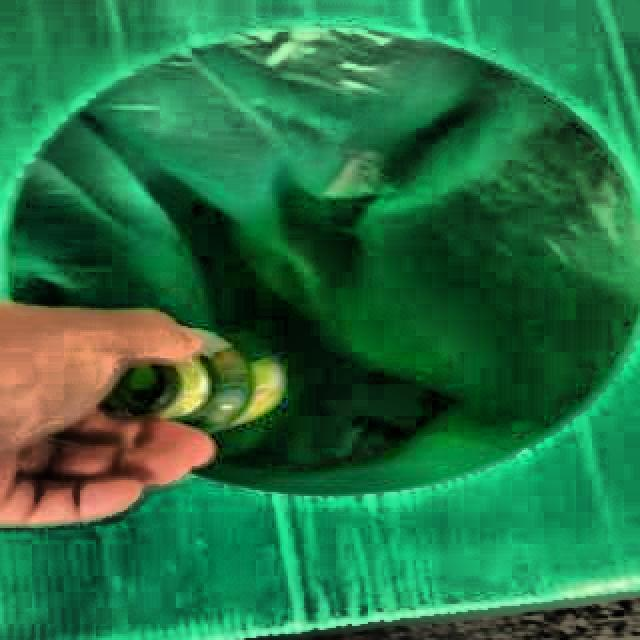glass: (101, 330, 285, 433)
